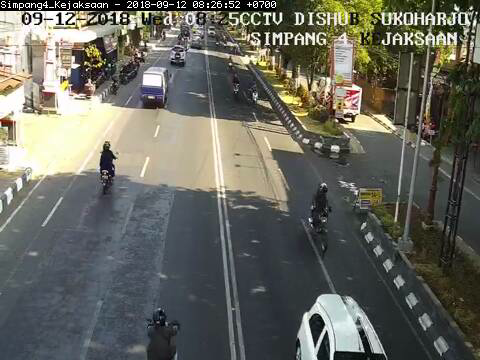motor: (307, 180, 334, 254)
